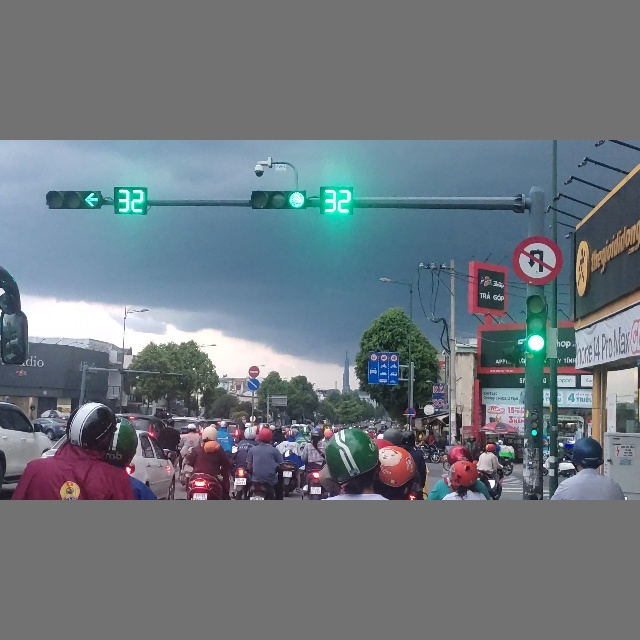P.102: (248, 365, 260, 378)
P.124a*: (512, 235, 563, 285)
R.302a: (248, 378, 260, 391)
R.415a: (368, 351, 399, 385)
